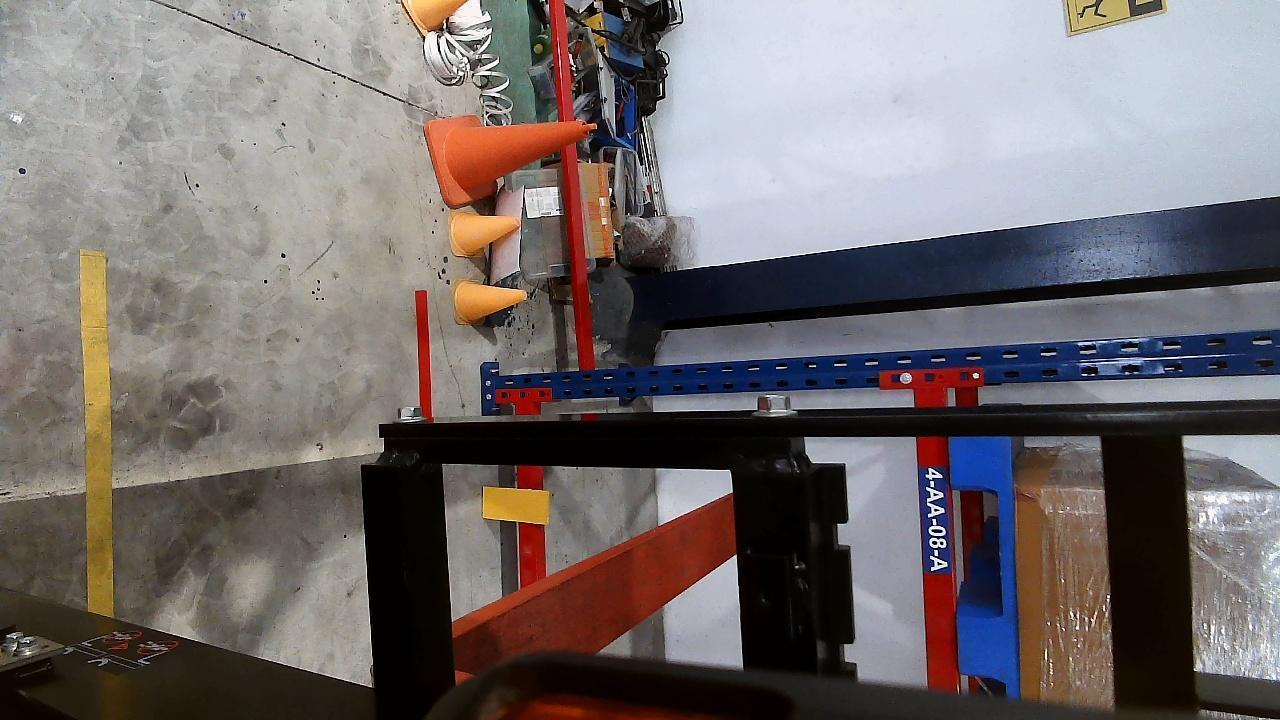red_line: (413, 290, 435, 420)
yellow_line: (80, 250, 113, 618)
